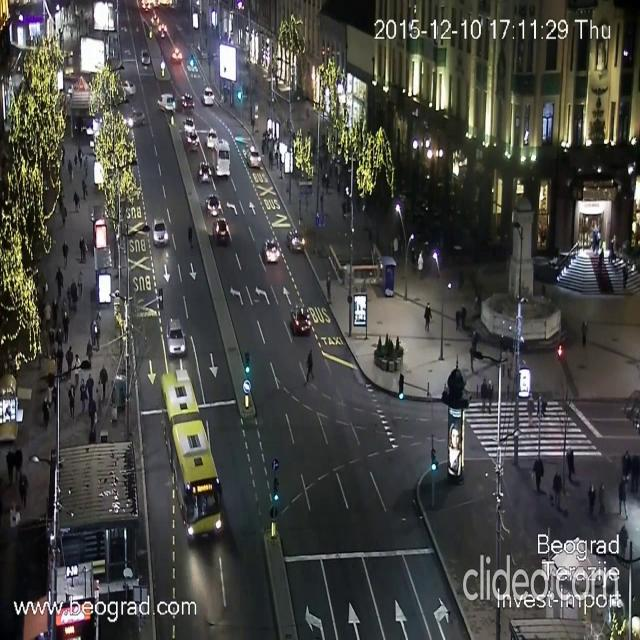bus: (162, 368, 226, 540), (210, 137, 234, 182)
car: (166, 318, 186, 357), (290, 305, 311, 336), (127, 108, 147, 134), (262, 237, 280, 264), (152, 218, 168, 247), (215, 216, 229, 242), (247, 144, 261, 168), (206, 196, 222, 214), (202, 86, 216, 106), (121, 80, 137, 97), (199, 165, 213, 183), (186, 132, 200, 150), (157, 95, 173, 110), (157, 22, 171, 39), (208, 128, 218, 150), (183, 88, 194, 108), (142, 44, 150, 70), (182, 119, 195, 134), (173, 49, 181, 66), (151, 14, 159, 26)
